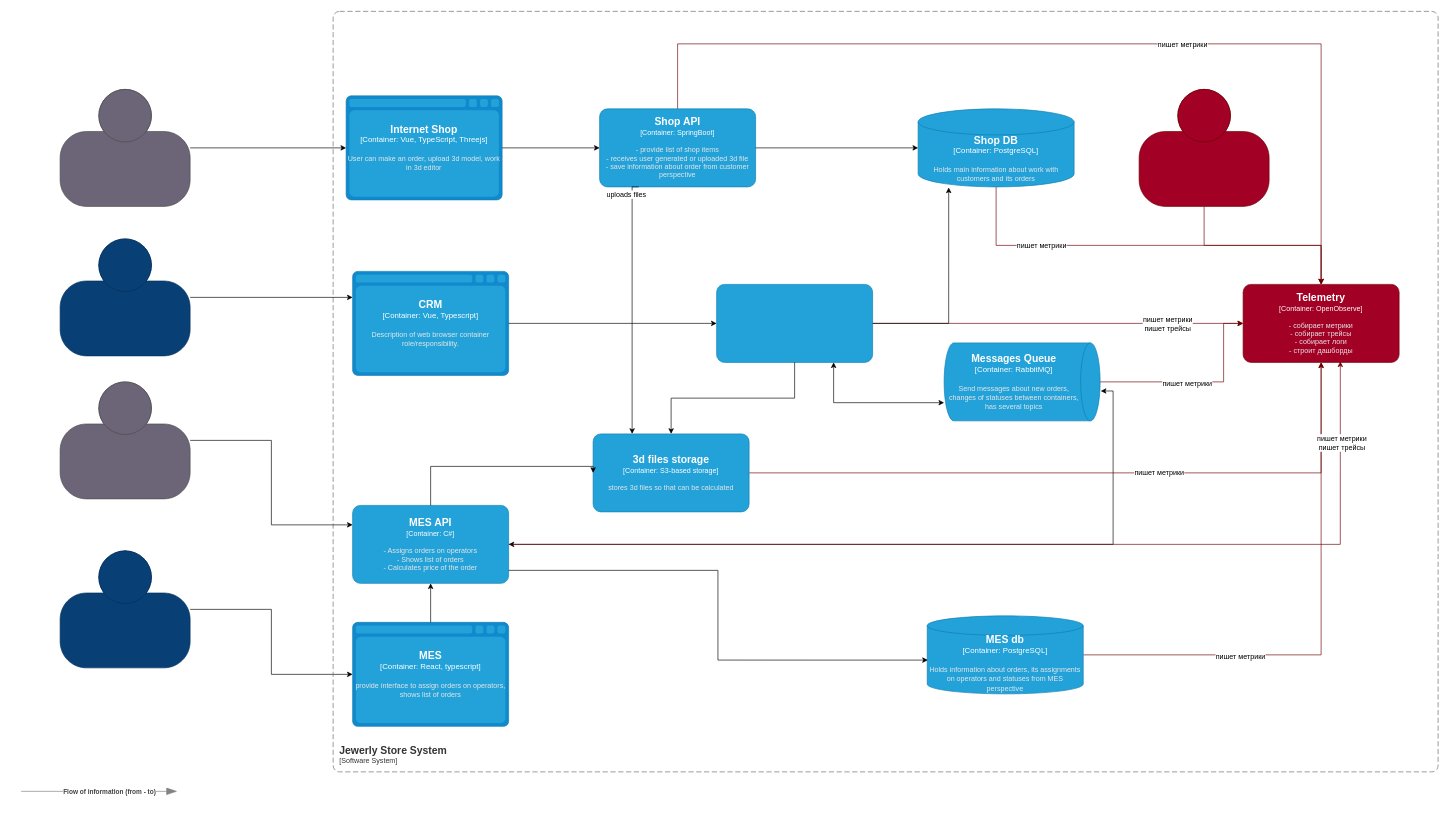
The diagram is 1450 pixels wide and 813 high, and some of its shapes have lost their labels. Each missing label, with the centre of its shape:
"Admin [Person] Читает дашборды" goes at (x=1203, y=147).
"API user [Person] Description of external person." goes at (x=124, y=440).
"CRM API [Container: SpringBoot] Description of container role/responsibility." goes at (x=794, y=323).
"Customer [Person] Description of external person." goes at (x=124, y=147).
"Operator [Person] Takes order in work, manufactures jewerly" goes at (x=124, y=609).
"Seller [Person] Operates with order, confirms manufacturing for the user" goes at (x=124, y=297).
